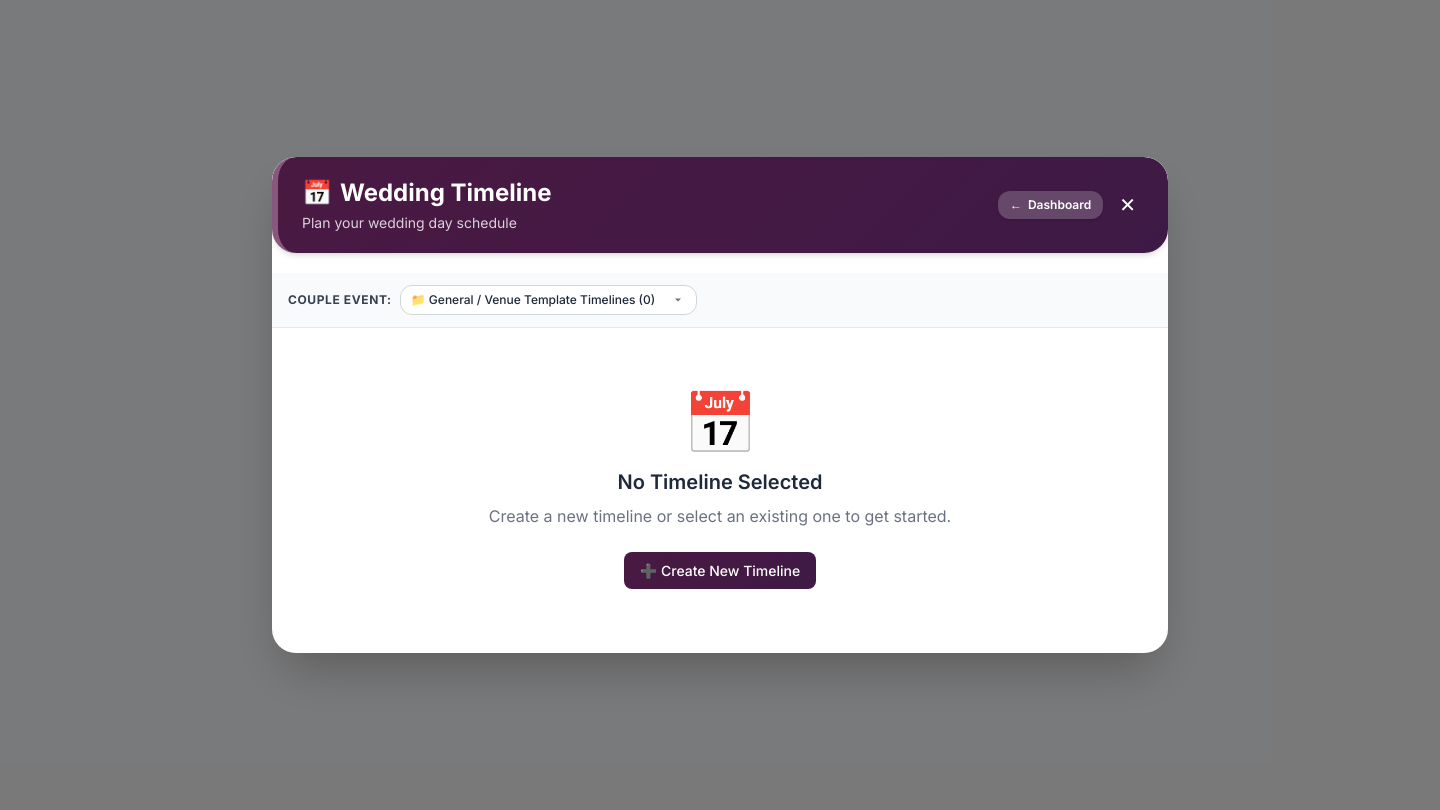
Test: TimelinePanel (Venue Portal <-> Couples Portal Integration) › displays "★ Day of Coordination Booked" banner and enables full timeline editing when couple booked coordination
Note: Select the couple event in the dropdown
Select "★ Smith & Jones (2026-09-19)" in the dropdown labelled "Couple Event:" at point(548, 300), box [400,285,697,315]
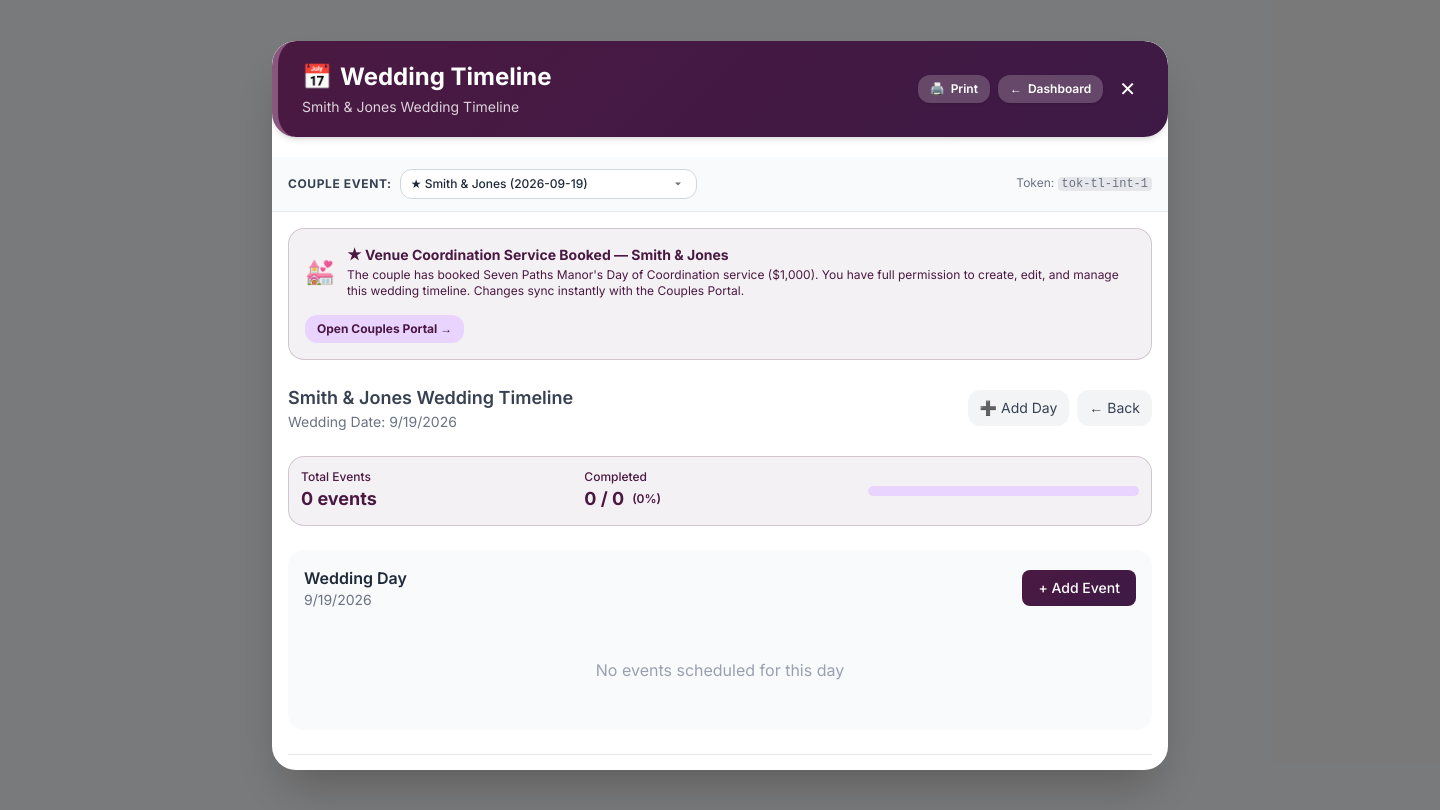
Now the text "★ Venue Coordination Service Booked — Smith & Jones" is shown, box [347,246,729,262]
Now the button "➕ Add Day" is shown, box [968,390,1069,426]
Now the button "+ Add Event" is shown
Note: Add an event
Click the button "+ Add Event" at point(1079, 588), box [1022,570,1136,606]
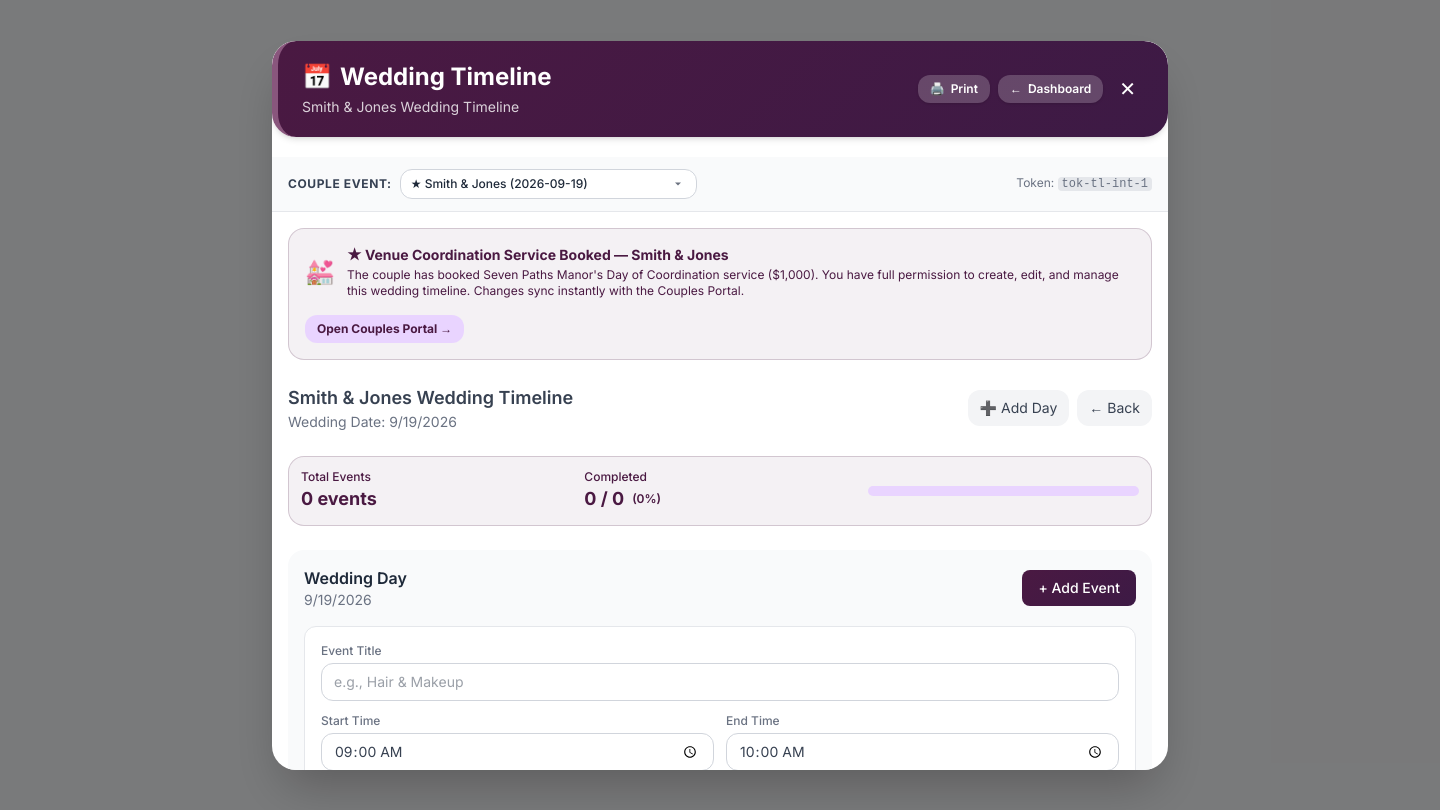
Type "Ceremony Processional" into the field with placeholder "e.g., Hair & Makeup" at point(720, 682), box [321,662,1119,700]
(page scrolled)
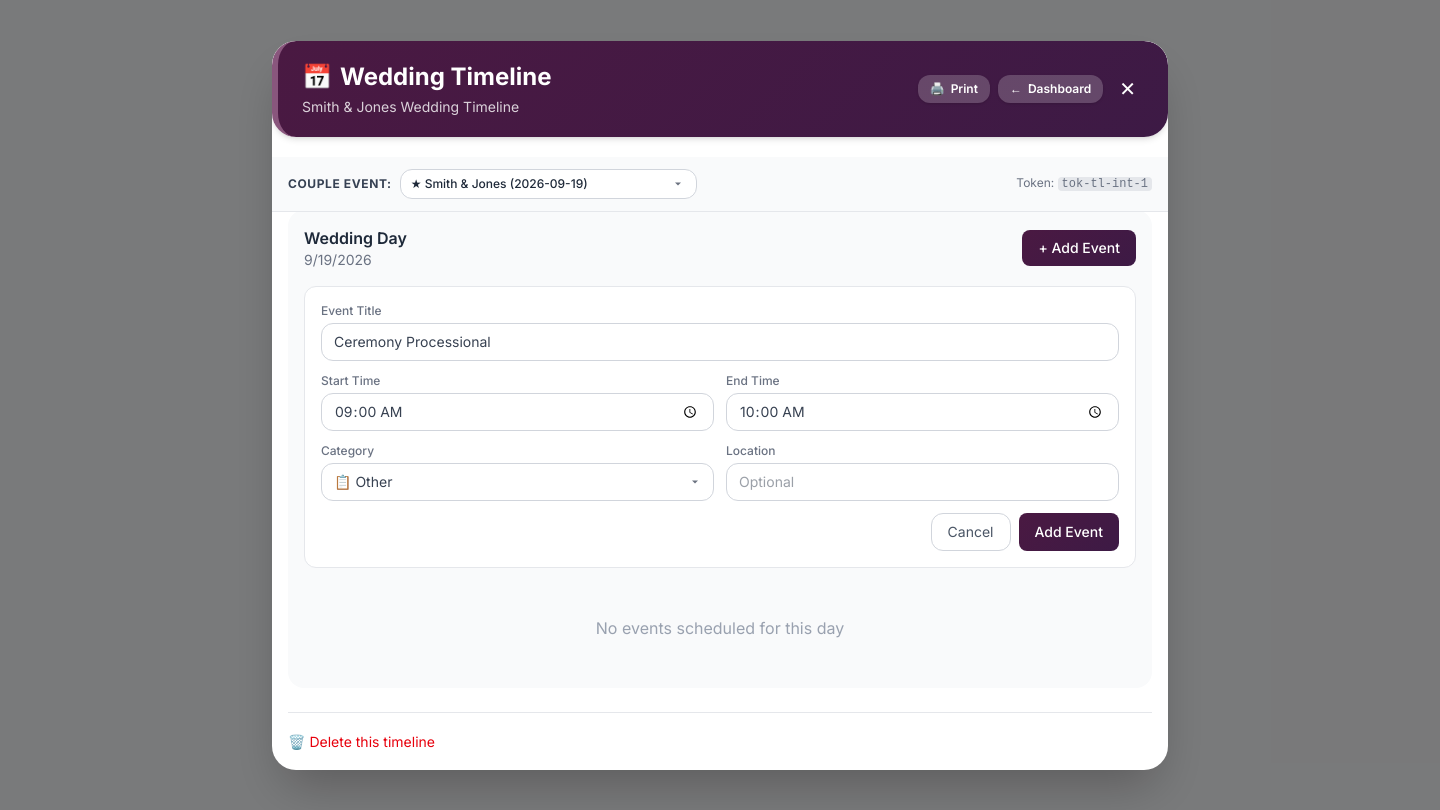
Click the button "Add Event" at point(1069, 532), box [1018,513,1119,551]
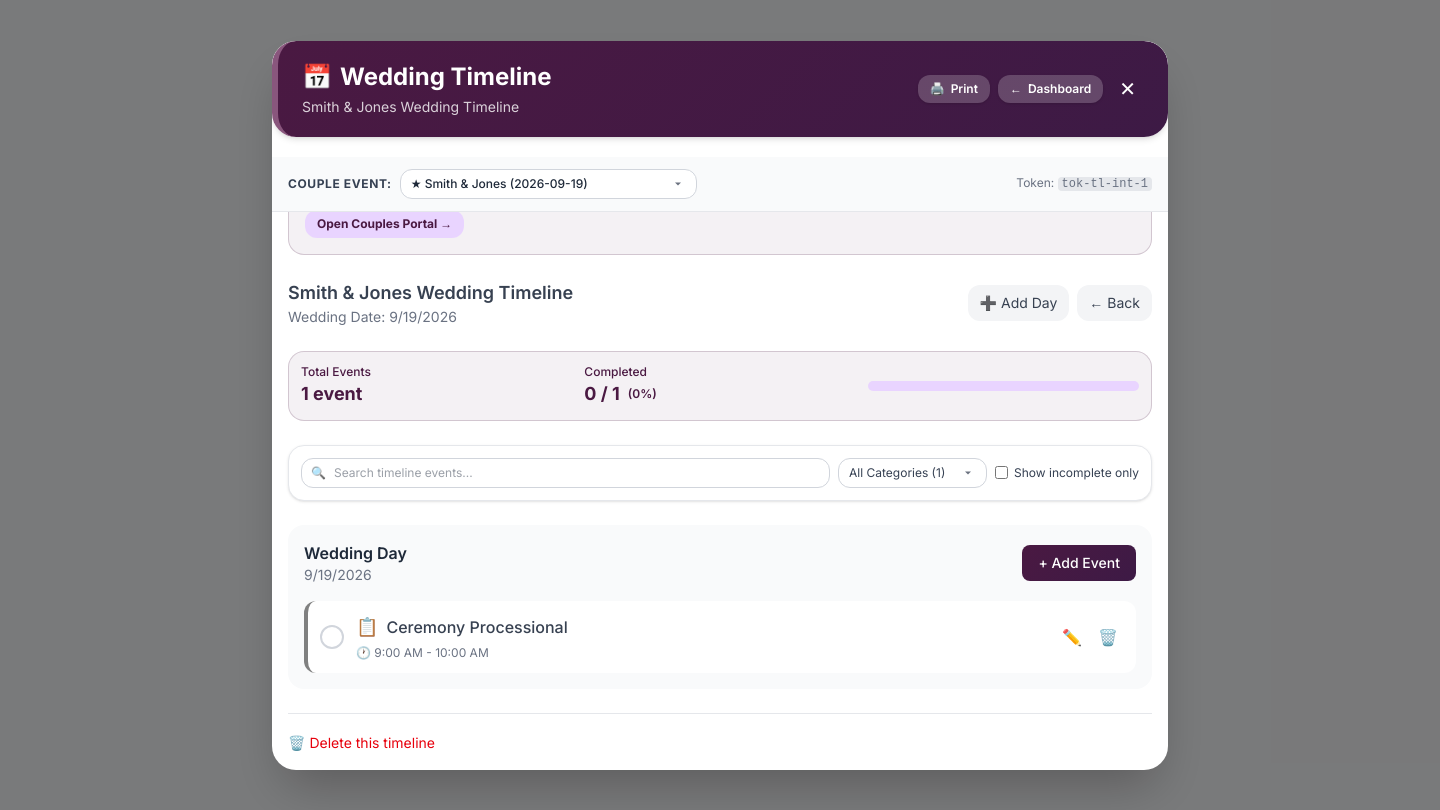
Now the text "Ceremony Processional" is shown, box [386,614,568,638]
